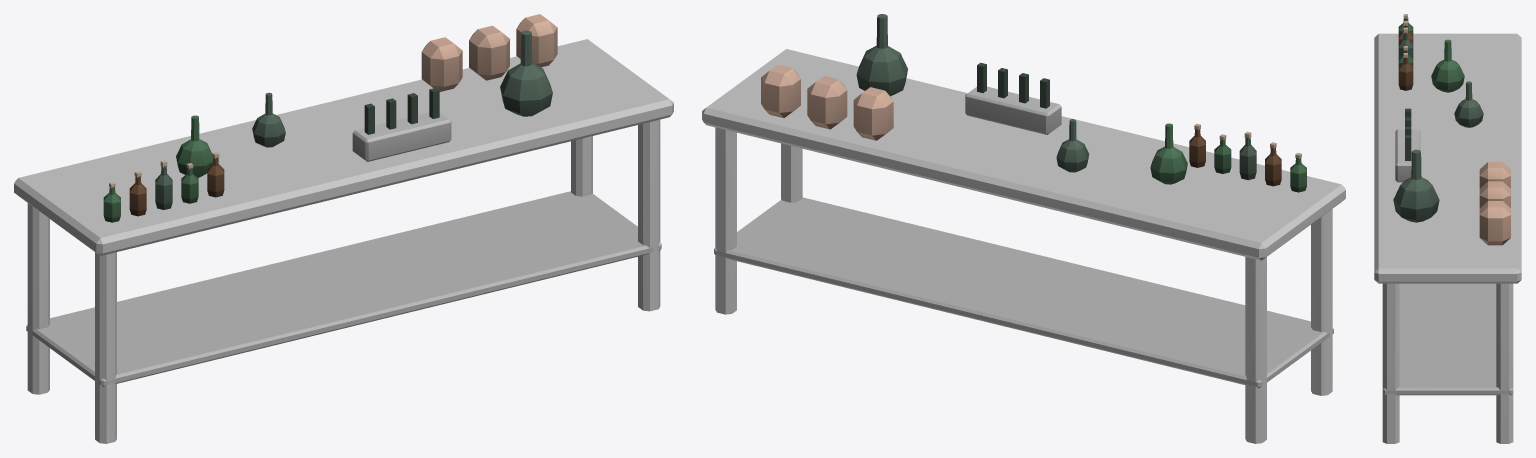
Rendered from lab_bench.glb.
3 views of the same model, side by side, from view 1: azimuth 30°, elevation 25°; view 2: azimuth 150°, elevation 25°; view 3: azimuth 270°, elevation 25° (orthographic). The views are drawn at different scales.
Visible parts, largest first — view 1: bench_crock; view 2: bench_crock; view 3: bench_crock.
Part boxes in pixels (<box>): bench_crock: <box>14,14,673,443</box>; bench_crock: <box>702,14,1345,443</box>; bench_crock: <box>1374,14,1521,443</box>.
Size of the model in its own units: 2.68 by 1.28 by 0.7.
